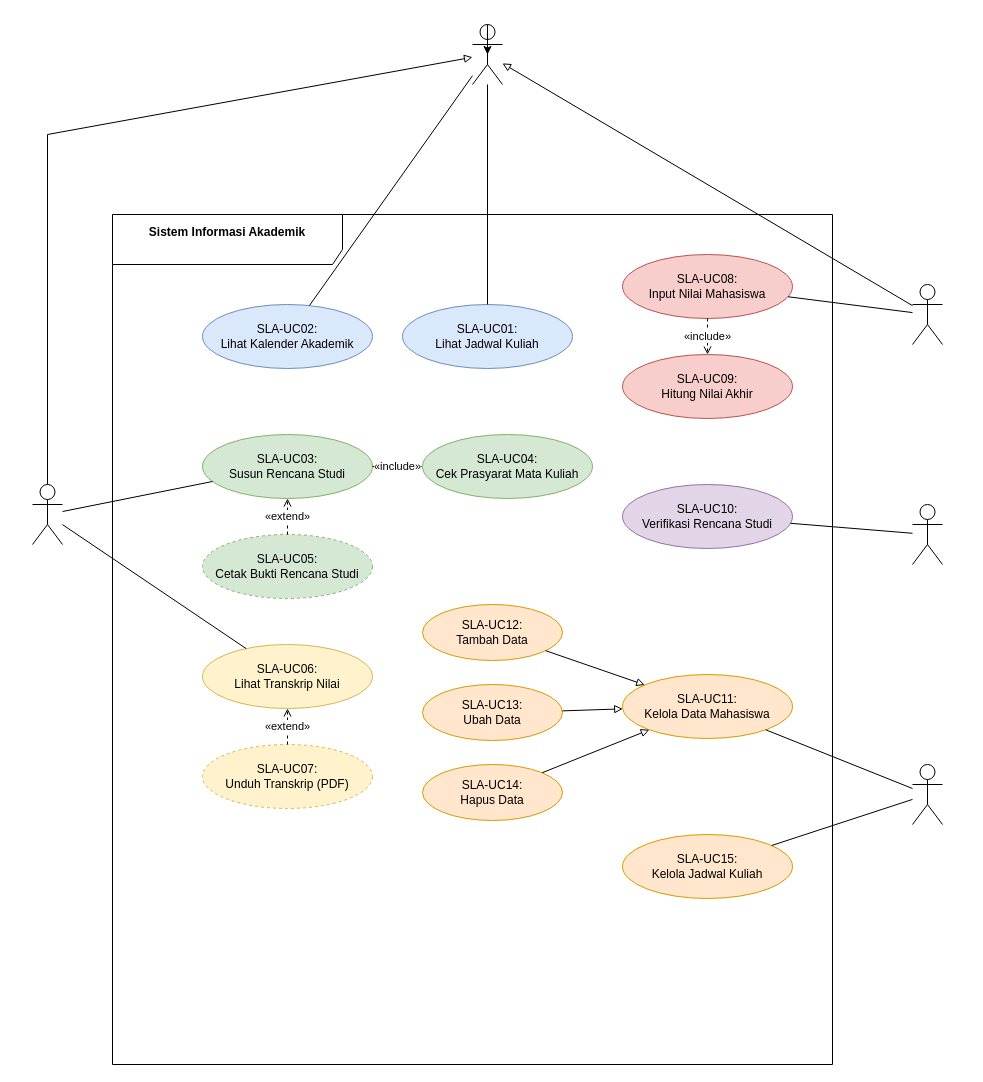
Image size: 983x1082. Some labels were removed from this diagram. Here are the shapes that lost their labels. From the top down, the centre of each, then its label:
At pixel 487 54: "Civitas Akademik".
At pixel 927 314: "Dosen".
At pixel 47 514: "Mahasiswa".
At pixel 927 534: "Dosen PA".
At pixel 927 794: "Staf Akademik".
